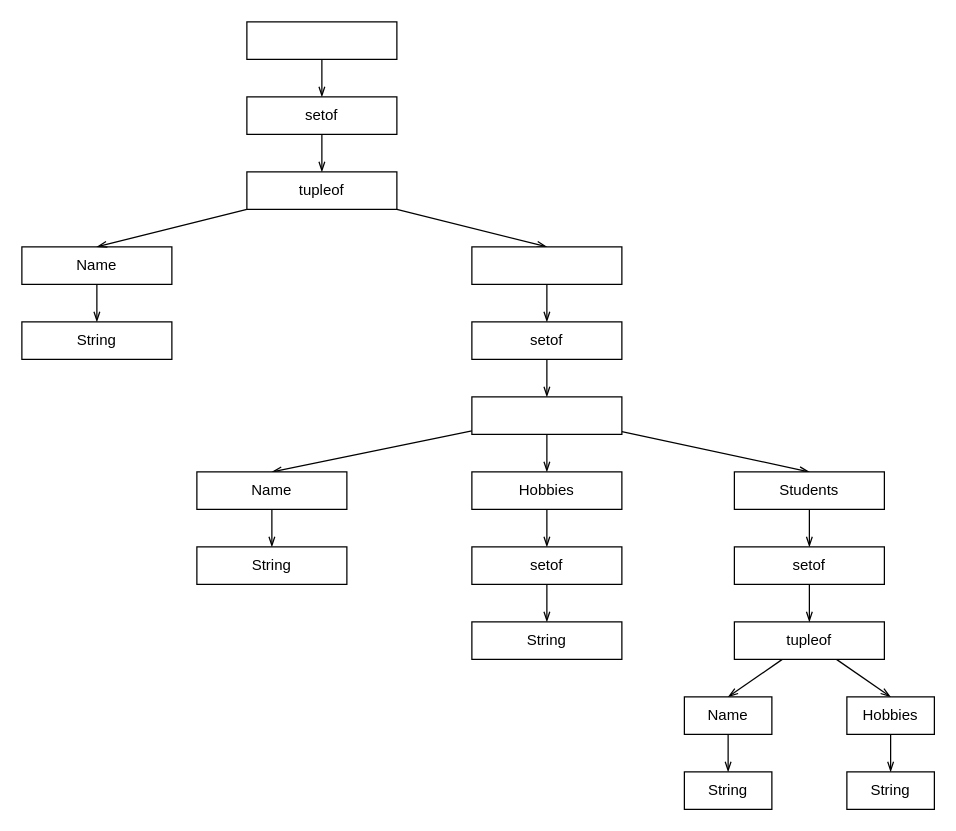
The diagram is 956 pixels wide and 831 high, and some of its shapes have lost their labels. The centre of each missing label's shape, as x and y in pixels:
"Department" belongs at (321,40).
"Professors" belongs at (546,265).
"tuple" belongs at (546,415).
